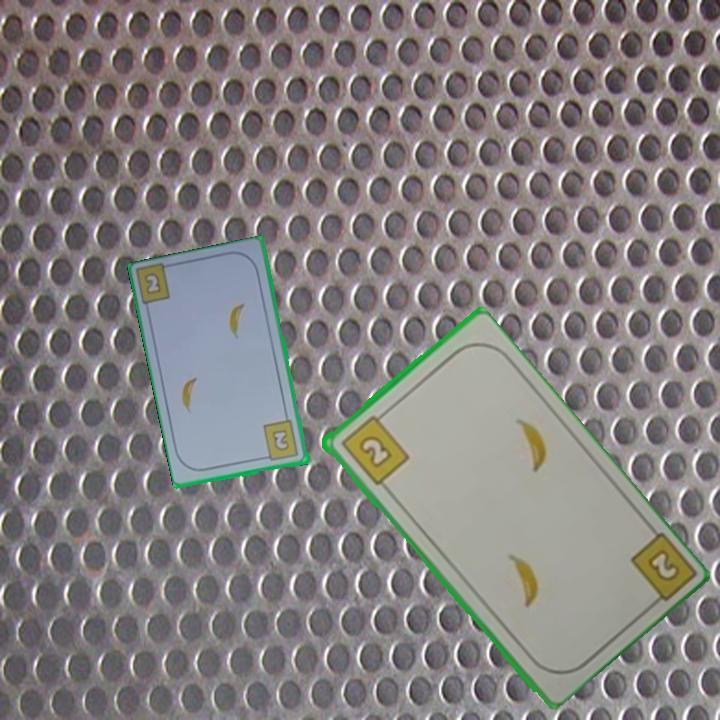2b: (337, 408, 412, 488), (626, 528, 696, 613), (260, 417, 302, 464), (143, 271, 162, 295)
